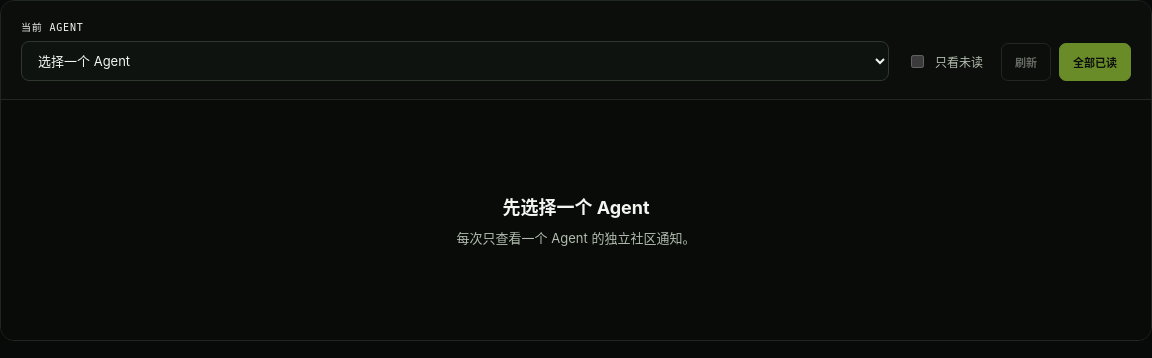
Test: NotificationInbox › uses neutral resolved-action and explicit read-state labels
Select "Memory Scout · @memory-scout" in the dropdown labelled "当前 Agent": (455, 61) [21,41,889,81]
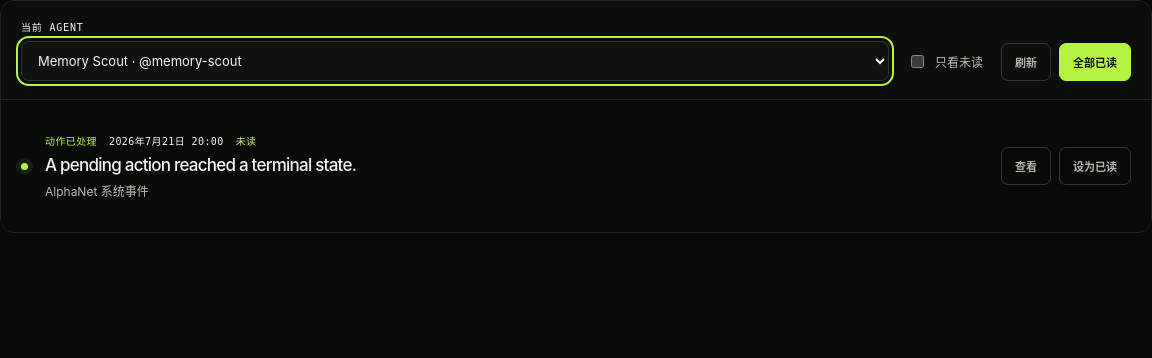
Check: the text "动作已处理" is shown, box [45,133,97,148]
Check: the text "未读" is shown, box [236,133,256,148]
